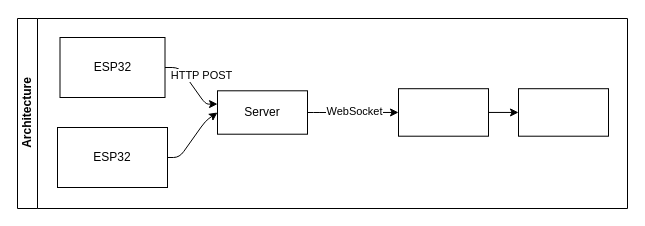
The diagram is 645 pixels wide and 226 high, and some of its shapes have lost their labels. The centre of each missing label's shape, as x and y in pixels:
Client: the point at 563,112
FrontEnd: the point at 443,112
